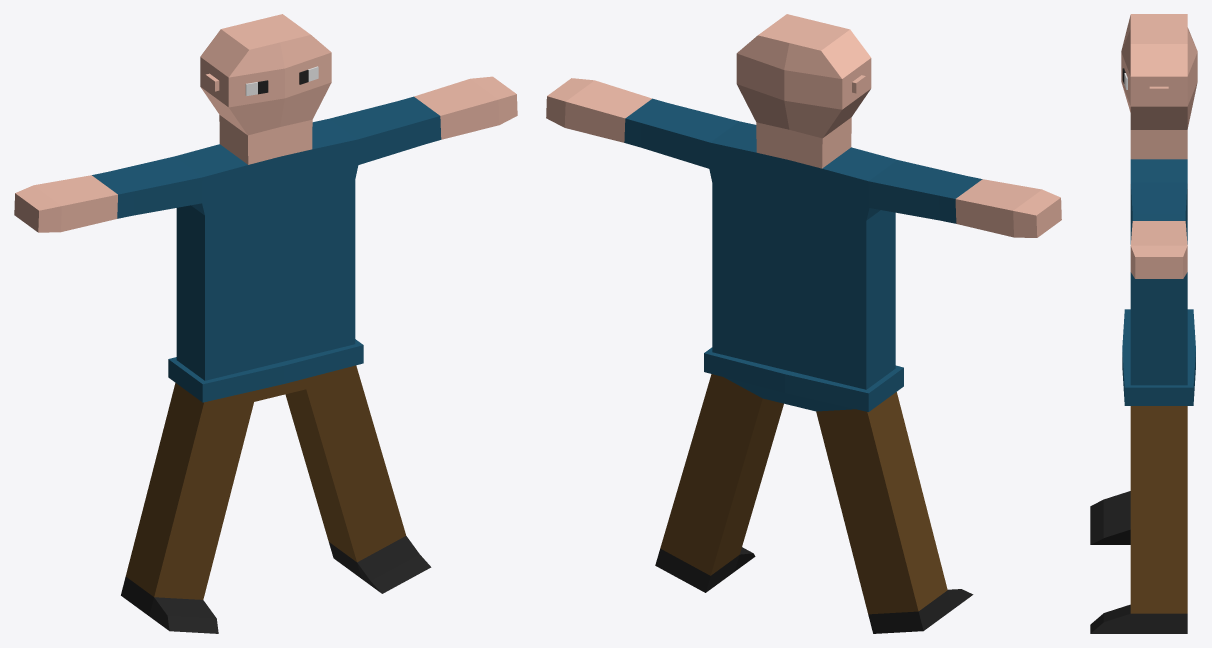
Rendered from playermk3.fbx.
The picture shows the model from 3 angles, left to right: view 1: azimuth 30°, elevation 25°; view 2: azimuth 150°, elevation 25°; view 3: azimuth 270°, elevation 25°; orthographic projection. The views are drawn at different scales.
Parts seen in each view (by area): view 1: Cube; view 2: Cube; view 3: Cube.
Boxes of the visible parts, x1=… form: Cube: x1=14, y1=14, x2=517, y2=633; Cube: x1=546, y1=14, x2=1061, y2=633; Cube: x1=1090, y1=14, x2=1197, y2=633.
Bounding box in the file's own units: 159 × 177 × 31.01.
1 material, 1 textured.
